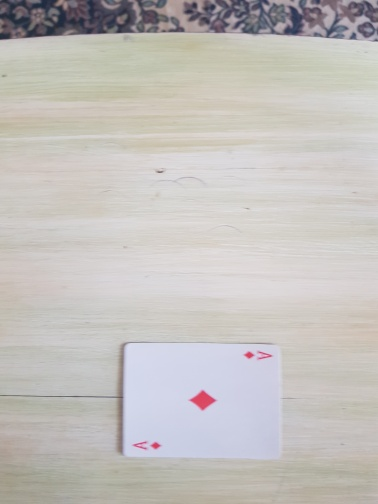ace: (121, 341, 284, 460)
